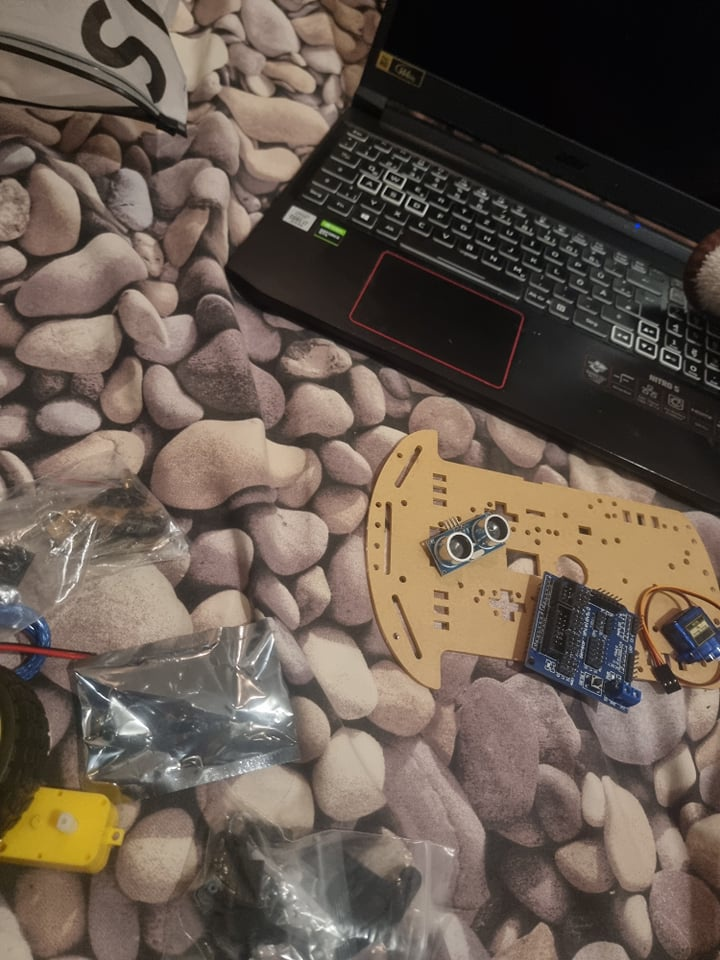5V EXPANSION: (523, 570, 650, 718)
SENSOR: (420, 509, 519, 576)
